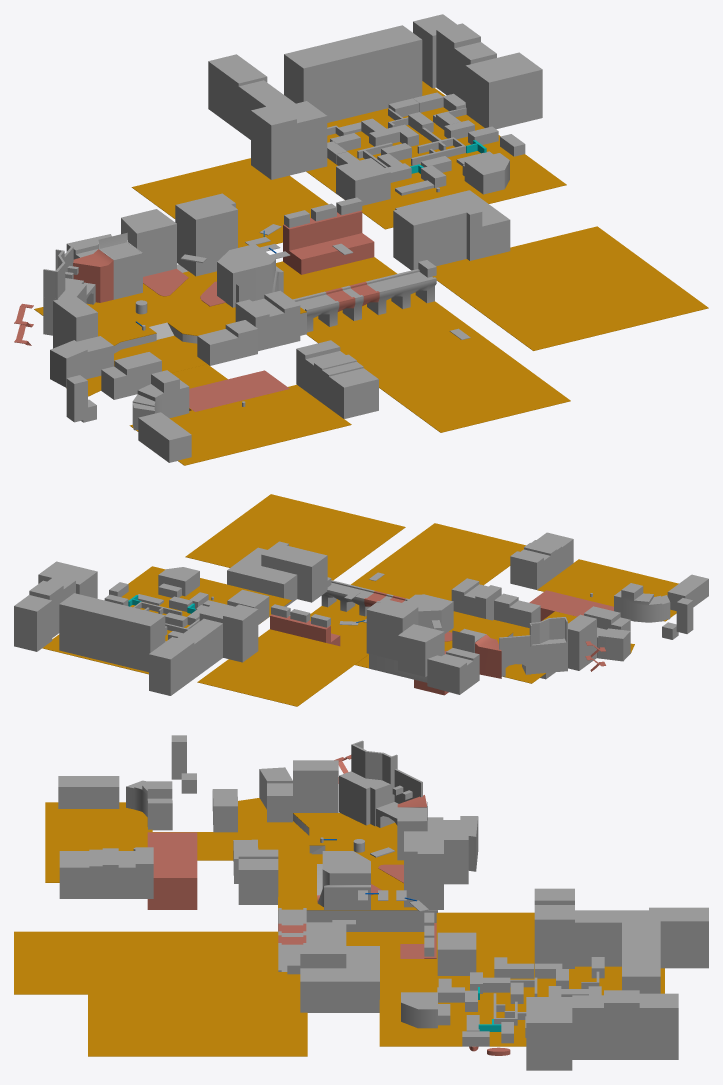
File: Apocalypse world export 1.fbx
The picture shows the model from 3 angles, top to bottom: view 1: azimuth 30°, elevation 25°; view 2: azimuth 150°, elevation 25°; view 3: azimuth 270°, elevation 25°; orthographic projection. The views are drawn at different scales.
Parts seen in each view (by area): view 1: pCube51, pCube30, pCube59, pCube61, pCube60, pCube1, pCube56, pCube50, pCube48, pCube9, pCube38, pCube24 (+22 smaller); view 2: pCube51, pCube30, pCube56, pCube59, pCube60, pCube50, pCube61, pCube1, pCube38, pCube48, pCube26, pCube31 (+21 smaller); view 3: pCube30, pCube51, pCube61, pCube60, pCube48, pCube9, pCube50, pCube1, pCube38, pCube26, pCube2, pCube56 (+19 smaller).
Boxes of the visible parts, x1,y1,x2,y2 form: pCube51: [276, 257, 570, 432]; pCube30: [432, 226, 708, 350]; pCube59: [284, 25, 422, 122]; pCube61: [413, 14, 542, 129]; pCube60: [208, 54, 327, 179]; pCube1: [129, 364, 351, 465]; pCube56: [131, 158, 328, 247]; pCube50: [393, 190, 510, 270]; pCube48: [306, 81, 566, 229]; pCube9: [34, 271, 306, 345]; pCube38: [296, 340, 378, 418]; pCube24: [292, 269, 436, 332]; pCube51: [309, 523, 525, 668]; pCube30: [185, 494, 405, 580]; pCube56: [197, 629, 368, 706]; pCube59: [59, 593, 165, 672]; pCube60: [149, 602, 258, 695]; pCube50: [227, 541, 327, 606]; pCube61: [14, 561, 97, 651]; pCube1: [537, 559, 678, 623]; pCube38: [510, 532, 573, 589]; pCube48: [42, 566, 291, 674]; pCube26: [568, 614, 630, 670]; pCube31: [366, 599, 418, 660]; pCube30: [88, 972, 307, 1056]; pCube51: [14, 931, 424, 994]; pCube61: [526, 990, 678, 1070]; pCube60: [534, 888, 708, 968]; pCube48: [379, 959, 664, 1046]; pCube9: [278, 813, 417, 910]; pCube50: [300, 922, 379, 1012]; pCube1: [45, 802, 237, 882]; pCube38: [59, 847, 153, 898]; pCube26: [259, 760, 338, 822]; pCube2: [147, 832, 197, 909]; pCube56: [436, 912, 534, 958].
Bounding box in the file's own units: 47.84 × 8.05 × 45.13.
